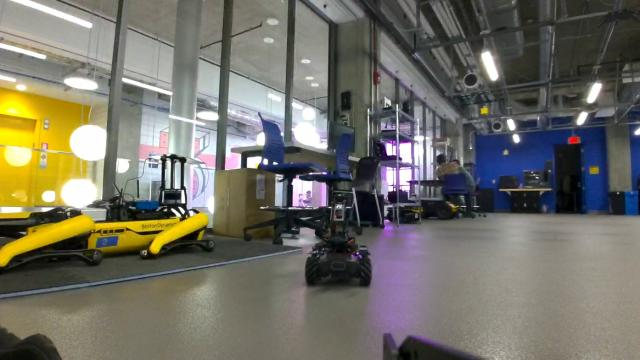robot: (303, 189, 377, 292)
